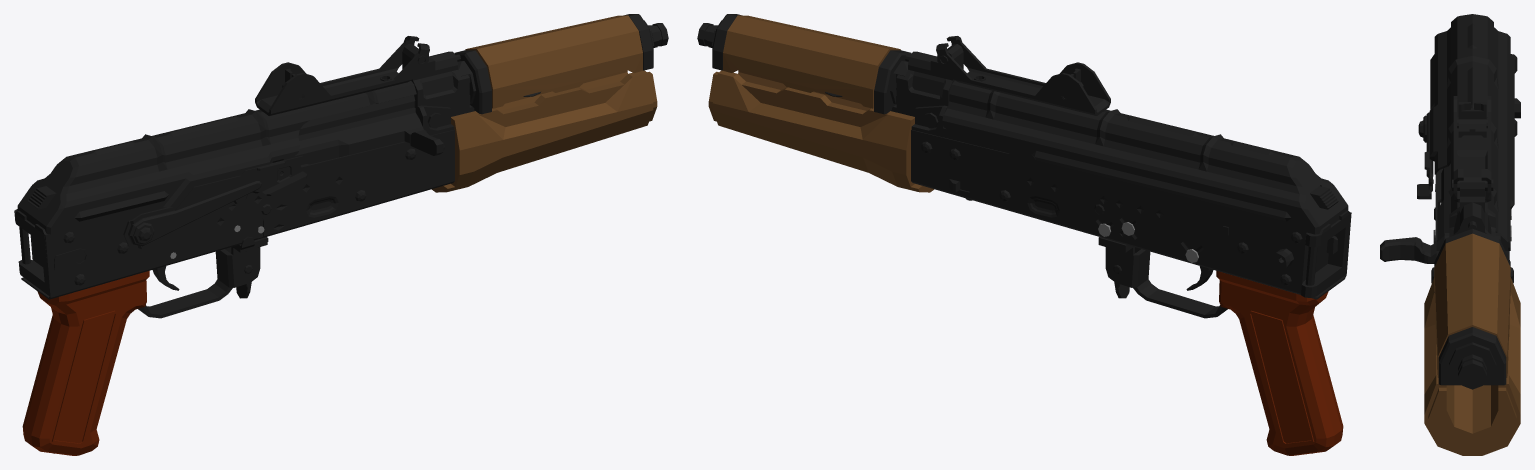
Rendered from aks-74u.glb.
The picture shows the model from 3 angles, left to right: view 1: azimuth 30°, elevation 25°; view 2: azimuth 150°, elevation 25°; view 3: azimuth 270°, elevation 25°; orthographic projection. The views are drawn at different scales.
Parts seen in each view (by area): view 1: aks74u receiver_13, aks74u dust cover_11, aks74u handguard_12, aks74u grip_2, aks74u bolt_10, aks74u selector_1; view 2: aks74u receiver_13, aks74u dust cover_11, aks74u handguard_12, aks74u grip_2; view 3: aks74u handguard_12, aks74u dust cover_11, aks74u receiver_13, aks74u bolt_10, aks74u selector_1.
Part boxes in pixels (x1=…): aks74u receiver_13: x1=14, y1=14, x2=654, y2=318; aks74u dust cover_11: x1=17, y1=36, x2=429, y2=234; aks74u handguard_12: x1=432, y1=15, x2=657, y2=192; aks74u grip_2: x1=22, y1=271, x2=149, y2=455; aks74u bolt_10: x1=271, y1=23, x2=668, y2=165; aks74u selector_1: x1=123, y1=156, x2=307, y2=248; aks74u receiver_13: x1=711, y1=14, x2=1351, y2=318; aks74u dust cover_11: x1=936, y1=36, x2=1348, y2=234; aks74u handguard_12: x1=708, y1=15, x2=933, y2=192; aks74u grip_2: x1=1216, y1=270, x2=1343, y2=455; aks74u handguard_12: x1=1424, y1=233, x2=1520, y2=455; aks74u dust cover_11: x1=1429, y1=14, x2=1514, y2=250; aks74u receiver_13: x1=1431, y1=54, x2=1520, y2=385; aks74u bolt_10: x1=1380, y1=164, x2=1486, y2=389; aks74u selector_1: x1=1417, y1=109, x2=1433, y2=199.
Size of the model in its own units: 3.96 by 1.97 by 0.643.
